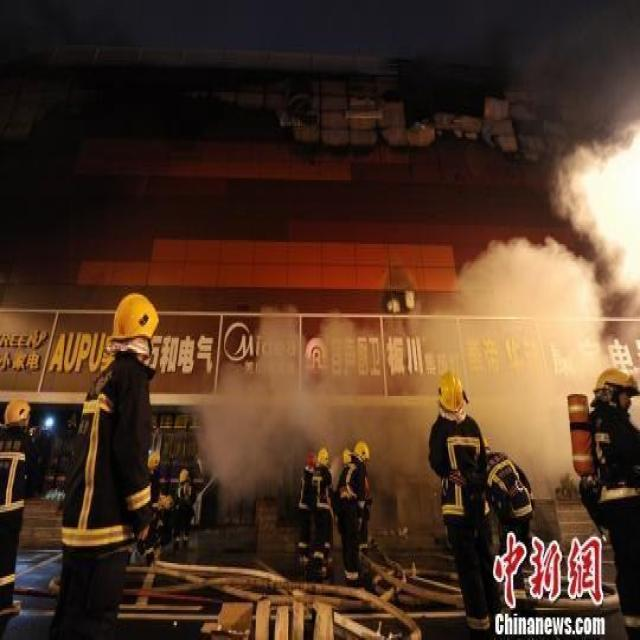Smoke: (184, 300, 450, 544), (414, 234, 604, 505), (503, 0, 640, 373)
